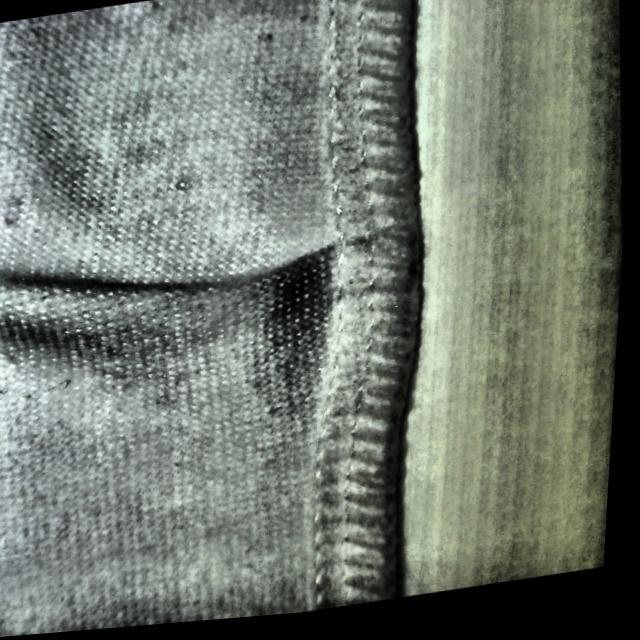seam: (104, 165, 445, 396)
